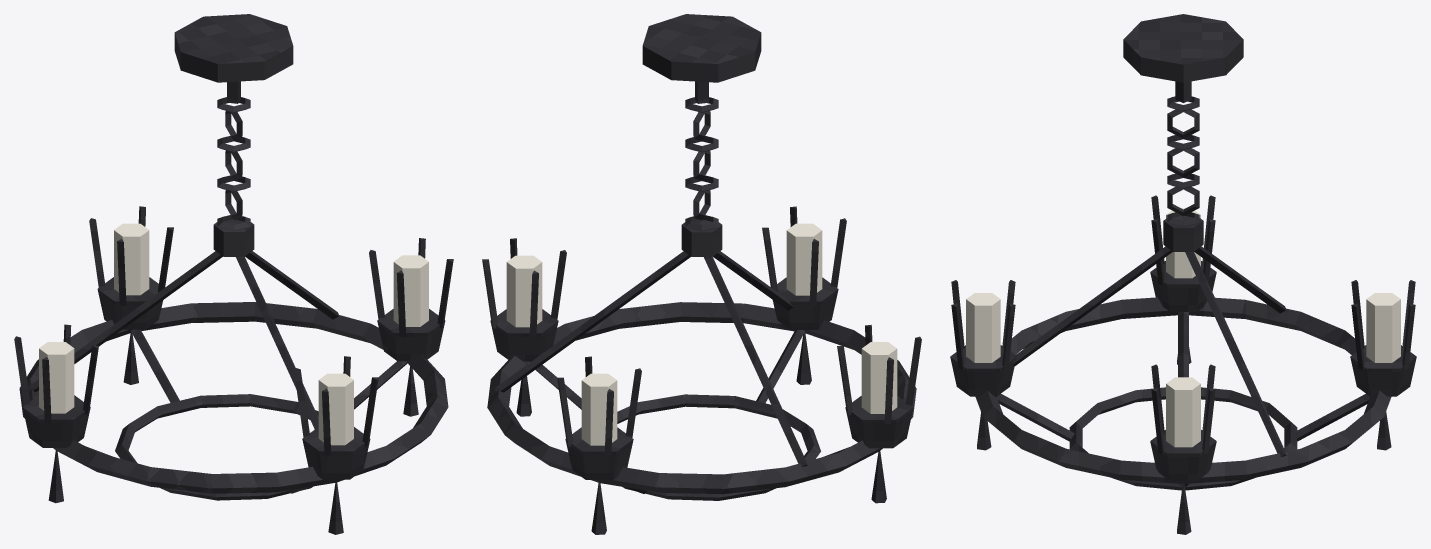
The model's file is lantern_hanging_off.obj.
3 views of the same model, side by side, from view 1: azimuth 30°, elevation 25°; view 2: azimuth 150°, elevation 25°; view 3: azimuth 270°, elevation 25° (orthographic). The views are drawn at different scales.
Parts seen in each view (by area): view 1: lantern_hanging; view 2: lantern_hanging; view 3: lantern_hanging.
Boxes of the visible parts, x1,y1,x2,y2 form: lantern_hanging: (14, 14, 453, 534); lantern_hanging: (482, 14, 921, 534); lantern_hanging: (950, 14, 1416, 534).
Size of the model in its own units: 0.6964 by 0.675 by 0.7.
